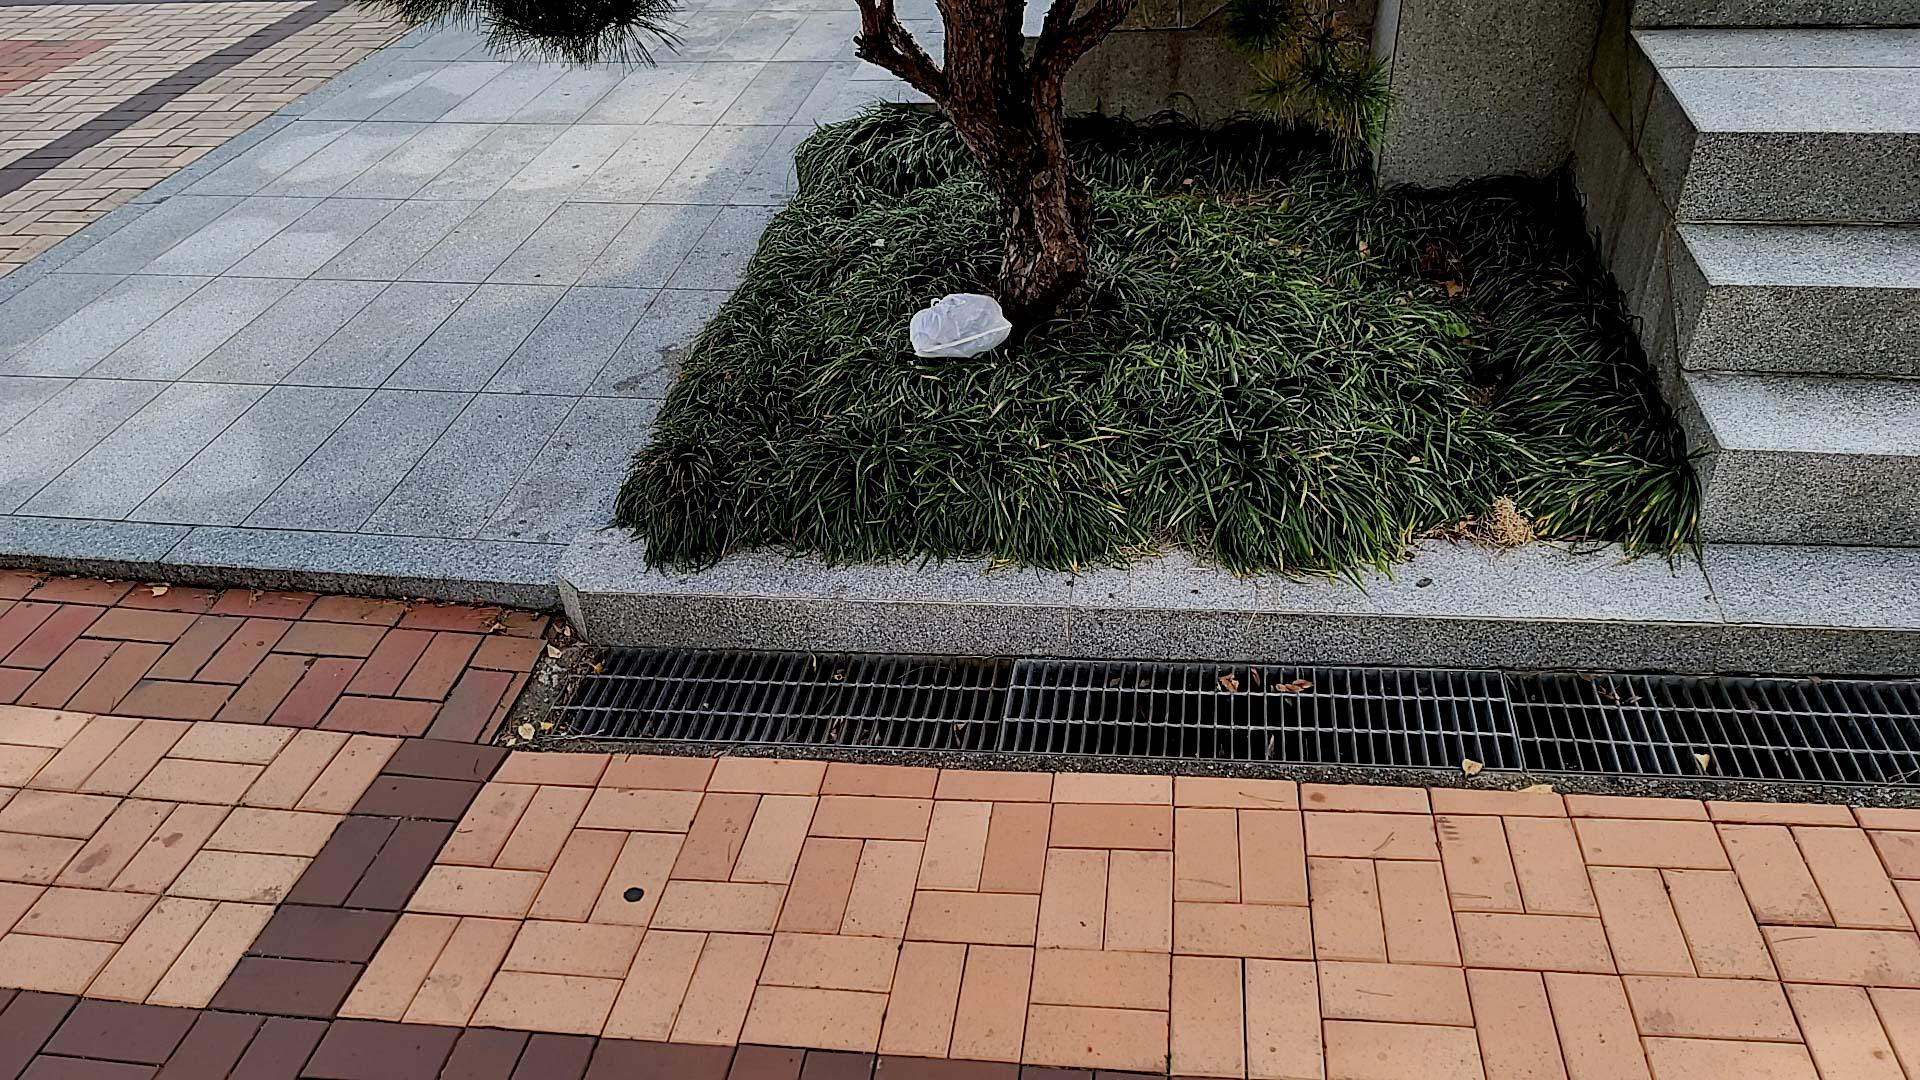white_bag: (905, 287, 1015, 363)
